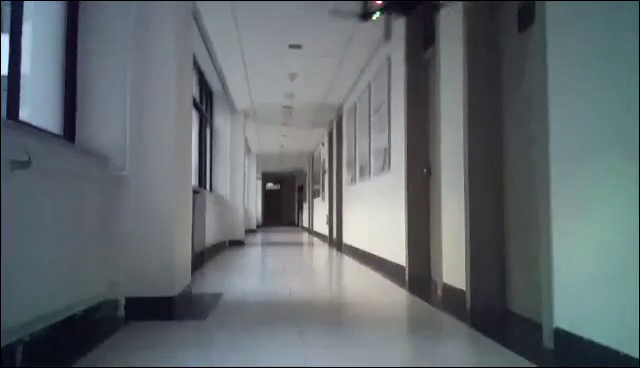drone: (328, 2, 451, 26)
